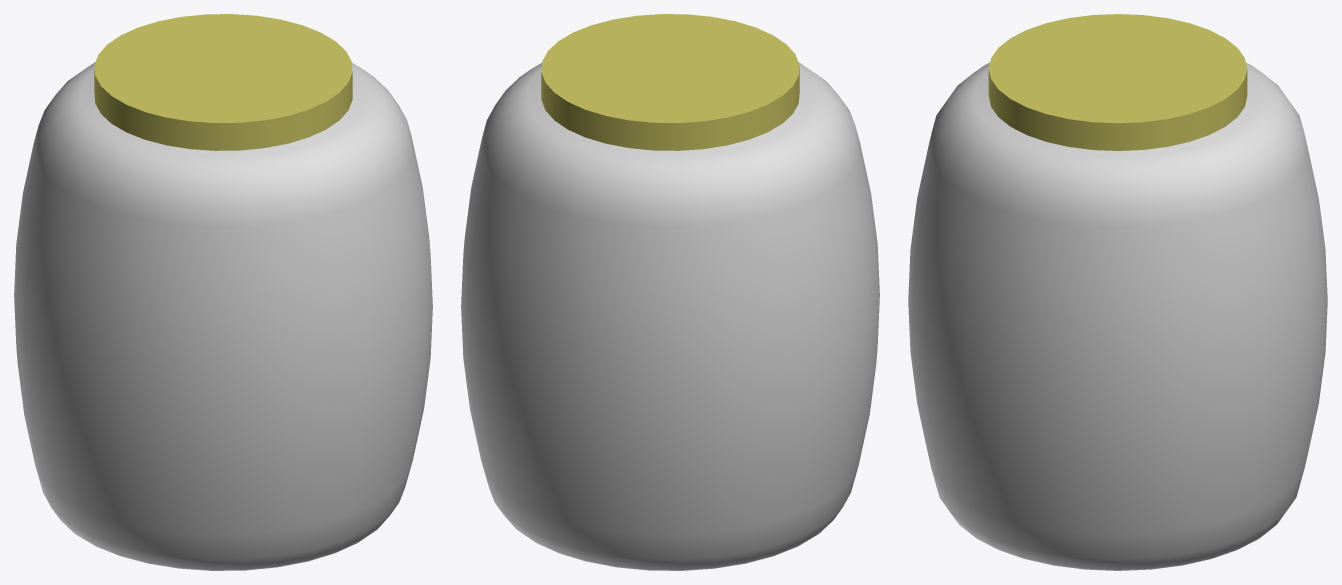
Rendered from 3D_Pot.FBX.
The picture shows the model from 3 angles, left to right: view 1: azimuth 30°, elevation 25°; view 2: azimuth 150°, elevation 25°; view 3: azimuth 270°, elevation 25°; orthographic projection.
Visible parts, largest first — view 1: 3D_Pot; view 2: 3D_Pot; view 3: 3D_Pot.
Part boxes in pixels (x1=…): 3D_Pot: x1=14, y1=14, x2=432, y2=570; 3D_Pot: x1=461, y1=14, x2=879, y2=570; 3D_Pot: x1=908, y1=14, x2=1327, y2=570.
Size of the model in its own units: 130 by 149 by 130.
